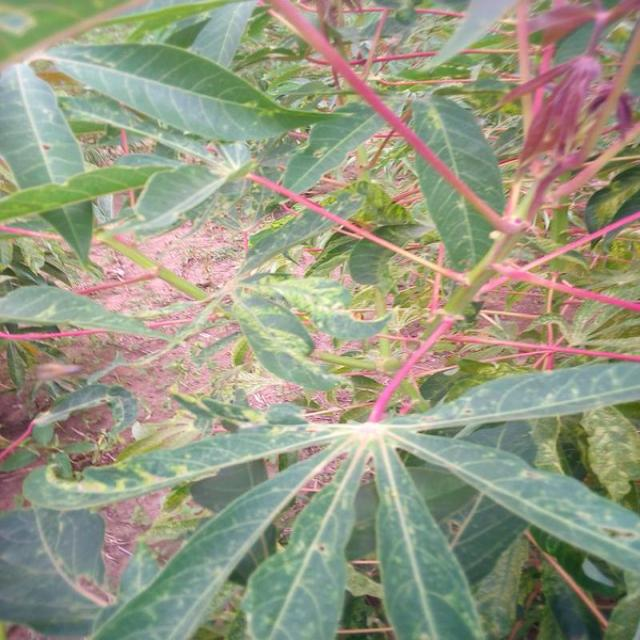cassava leaf: (2, 1, 640, 638), (34, 39, 344, 143), (409, 91, 508, 298), (2, 61, 95, 270)
